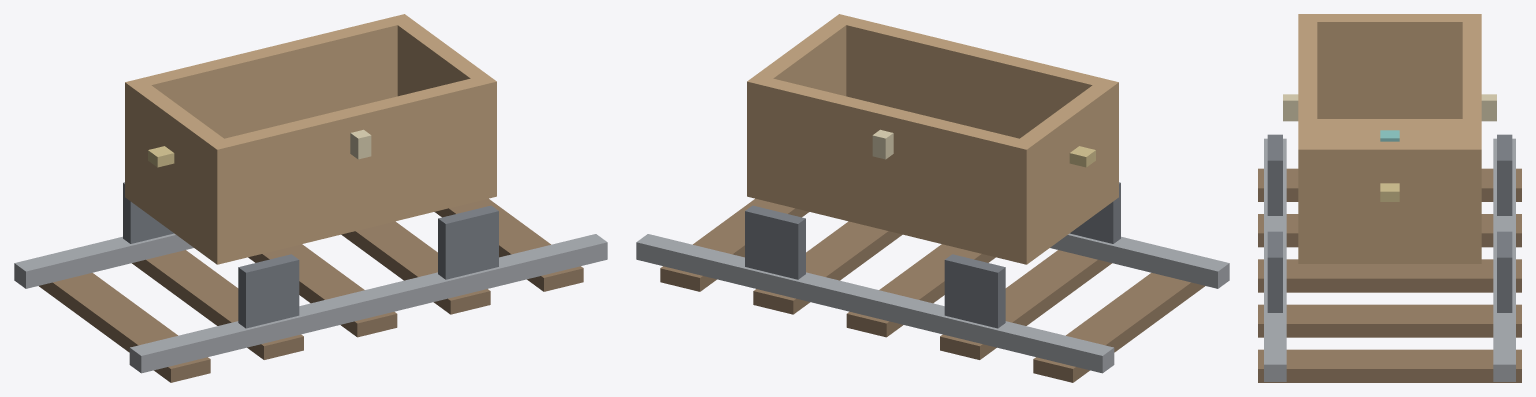
The model's file is 35-Mineria_carrito_vias.glb.
The picture shows the model from 3 angles, left to right: view 1: azimuth 30°, elevation 25°; view 2: azimuth 150°, elevation 25°; view 3: azimuth 270°, elevation 25°; orthographic projection.
Parts seen in each view (by area): view 1: SM_Carrito_Batea_NOFUNDIR, SM_Carrito_Traviesas_NOFUNDIR, SM_Carrito_Rieles_NOFUNDIR, SM_Carrito_Ruedas_NOFUNDIR, SM_Carrito_M_Carrito_Cuerda; view 2: SM_Carrito_Batea_NOFUNDIR, SM_Carrito_Traviesas_NOFUNDIR, SM_Carrito_Rieles_NOFUNDIR, SM_Carrito_Ruedas_NOFUNDIR, SM_Carrito_M_Carrito_Cuerda; view 3: SM_Carrito_Batea_NOFUNDIR, SM_Carrito_Traviesas_NOFUNDIR, SM_Carrito_Rieles_NOFUNDIR, SM_Carrito_Ruedas_NOFUNDIR, SM_Carrito_M_Carrito_Cuerda, SM_Carrito_M_Carrito_Herraje, SM_Carrito_M_Carrito_Mineral.
Boxes of the visible parts, bbox=[...] form: SM_Carrito_Batea_NOFUNDIR: bbox=[125, 14, 496, 264]; SM_Carrito_Traviesas_NOFUNDIR: bbox=[39, 198, 583, 382]; SM_Carrito_Rieles_NOFUNDIR: bbox=[14, 233, 607, 373]; SM_Carrito_Ruedas_NOFUNDIR: bbox=[123, 182, 498, 328]; SM_Carrito_M_Carrito_Cuerda: bbox=[350, 129, 371, 159]; SM_Carrito_Batea_NOFUNDIR: bbox=[747, 14, 1118, 264]; SM_Carrito_Traviesas_NOFUNDIR: bbox=[660, 198, 1204, 382]; SM_Carrito_Rieles_NOFUNDIR: bbox=[636, 233, 1229, 373]; SM_Carrito_Ruedas_NOFUNDIR: bbox=[745, 182, 1120, 328]; SM_Carrito_M_Carrito_Cuerda: bbox=[872, 129, 893, 159]; SM_Carrito_Batea_NOFUNDIR: bbox=[1298, 14, 1481, 263]; SM_Carrito_Traviesas_NOFUNDIR: bbox=[1258, 168, 1521, 382]; SM_Carrito_Rieles_NOFUNDIR: bbox=[1264, 138, 1515, 381]; SM_Carrito_Ruedas_NOFUNDIR: bbox=[1267, 134, 1512, 312]; SM_Carrito_M_Carrito_Cuerda: bbox=[1283, 94, 1496, 121]; SM_Carrito_M_Carrito_Herraje: bbox=[1380, 183, 1399, 201]; SM_Carrito_M_Carrito_Mineral: bbox=[1380, 130, 1399, 141].
Bounding box in the file's own units: 1.4 × 0.58 × 0.69.
